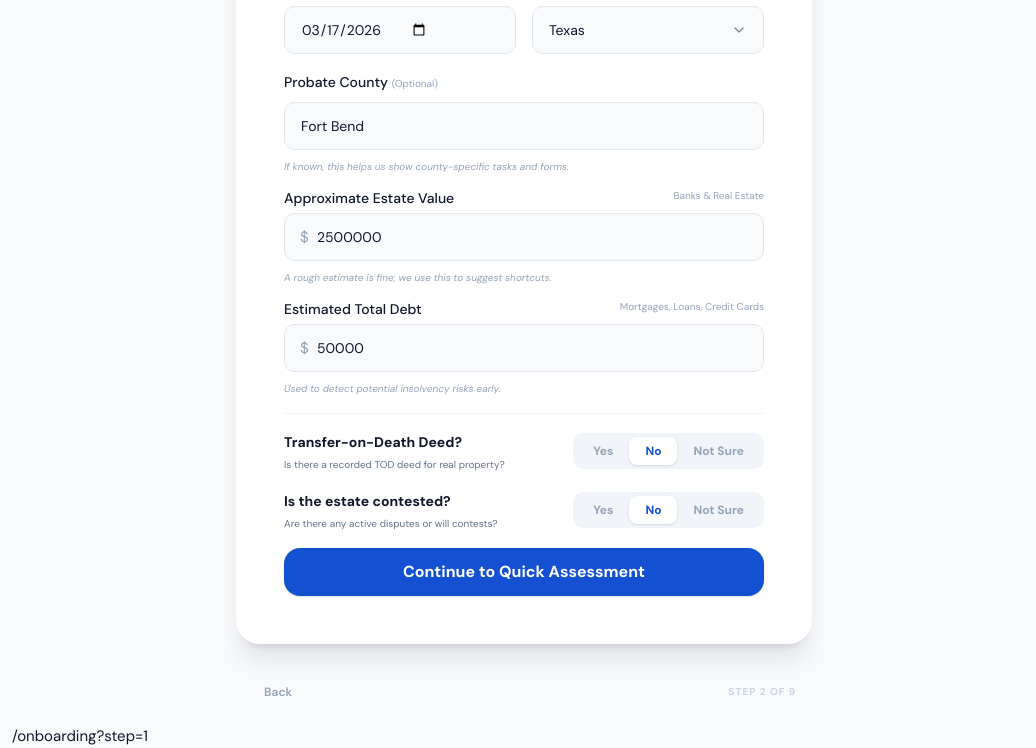
Scenario: OnboardingGuidedWizard deep-link step navigation › keeps the query step aligned when moving forward from a deep link
(page scrolled)
Click the button "Continue to Quick Assessment": click(524, 572) [284,548,764,596]
(page scrolled)
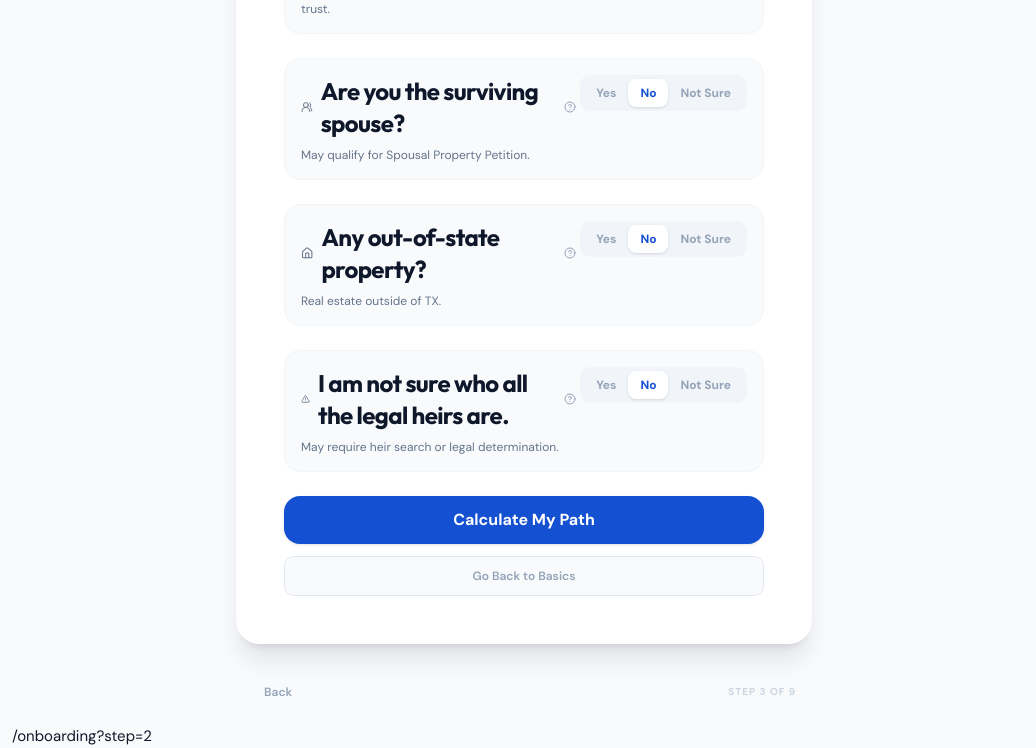
Expected: the text with test id "location" reads "/onboarding?step=2", [12,726,152,746]
